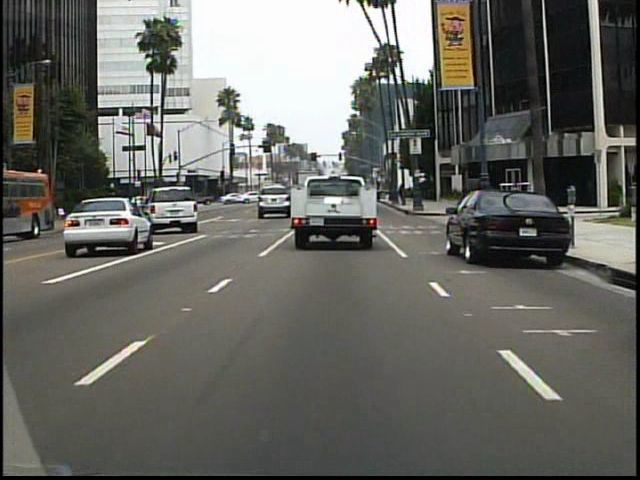person: (532, 176, 547, 212)
